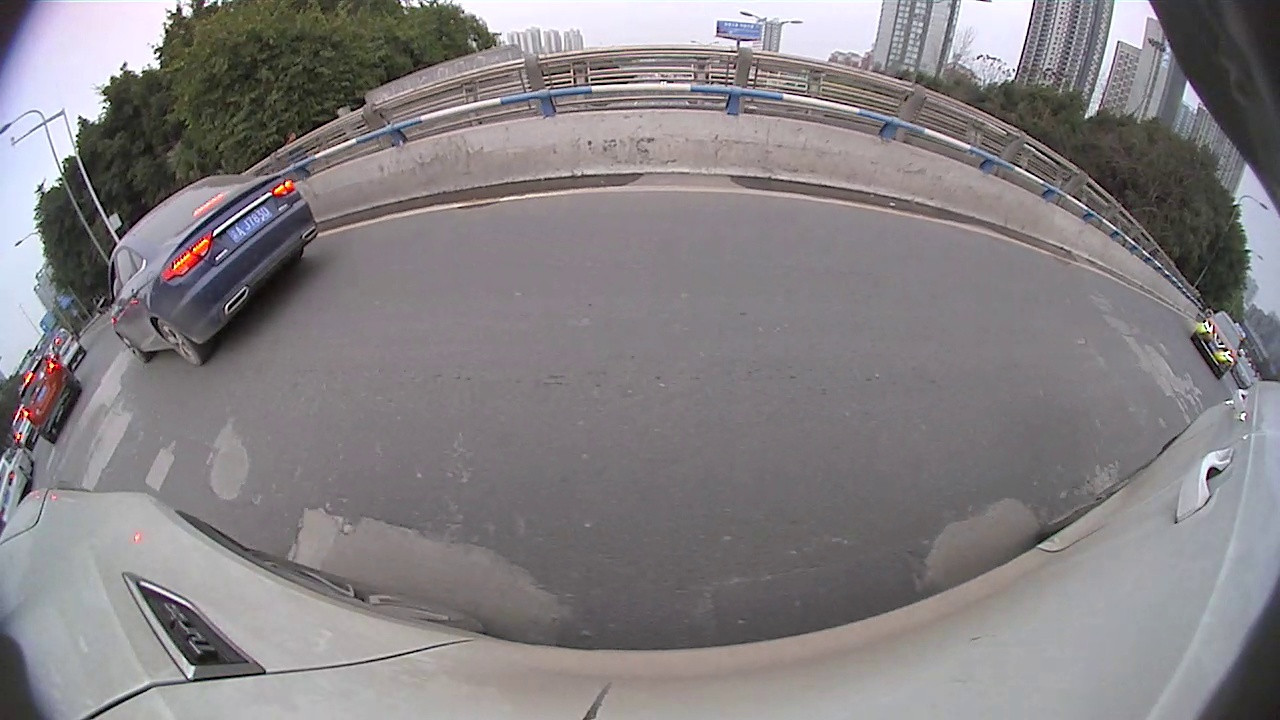car: (97, 172, 321, 370), (15, 352, 87, 445), (1189, 310, 1244, 380), (1, 443, 38, 514), (41, 324, 87, 373), (10, 404, 45, 452), (1231, 352, 1256, 388)
front: (113, 330, 152, 365)
person: (286, 128, 302, 180)
rear: (153, 317, 209, 370)
